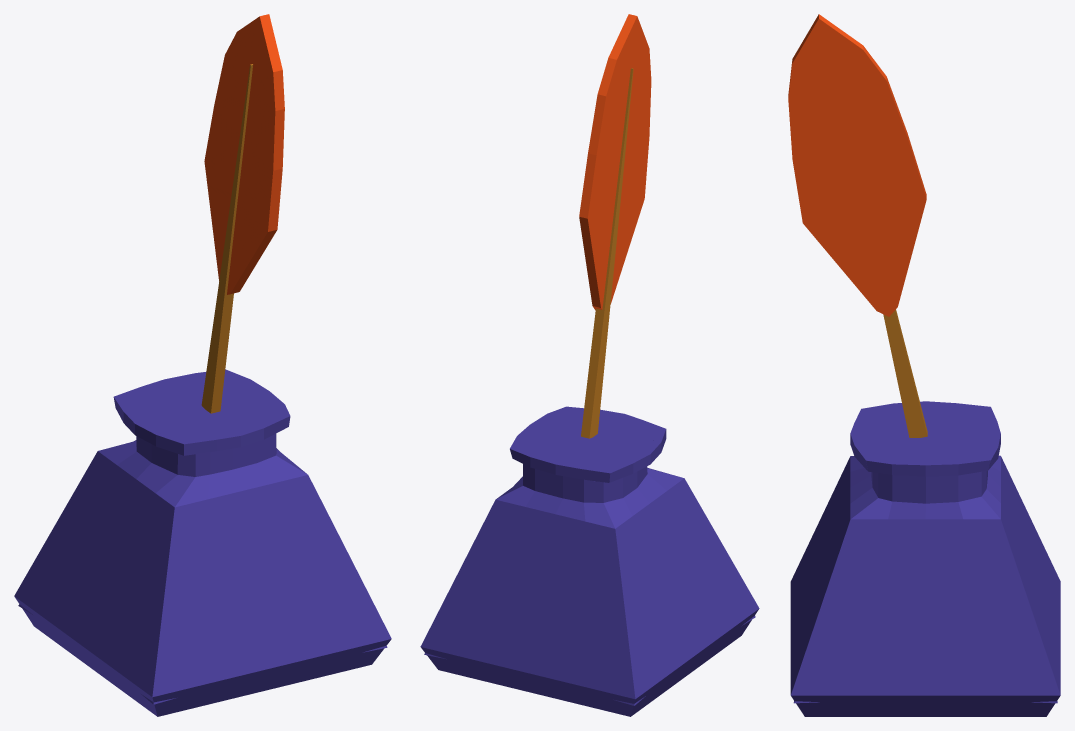
The model's file is Botella de tinta.fbx.
3 renders of one model, left to right at view 1: azimuth 30°, elevation 25°; view 2: azimuth 150°, elevation 25°; view 3: azimuth 270°, elevation 25°, orthographic. The views are drawn at different scales.
Parts seen in each view (by area): view 1: Plane.002; view 2: Plane.002; view 3: Plane.002.
Part boxes in pixels (x1,y1,x2,y2): Plane.002: [14, 14, 391, 716]; Plane.002: [420, 14, 759, 716]; Plane.002: [788, 14, 1060, 716].
Size of the model in its own units: 2 by 5.34 by 2.02.
